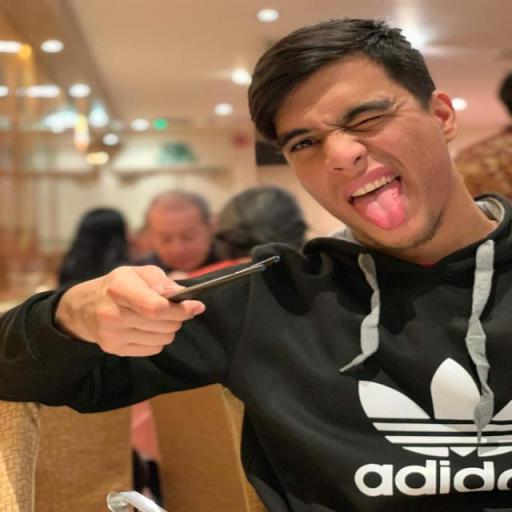Adidas: (348, 358, 512, 498)
